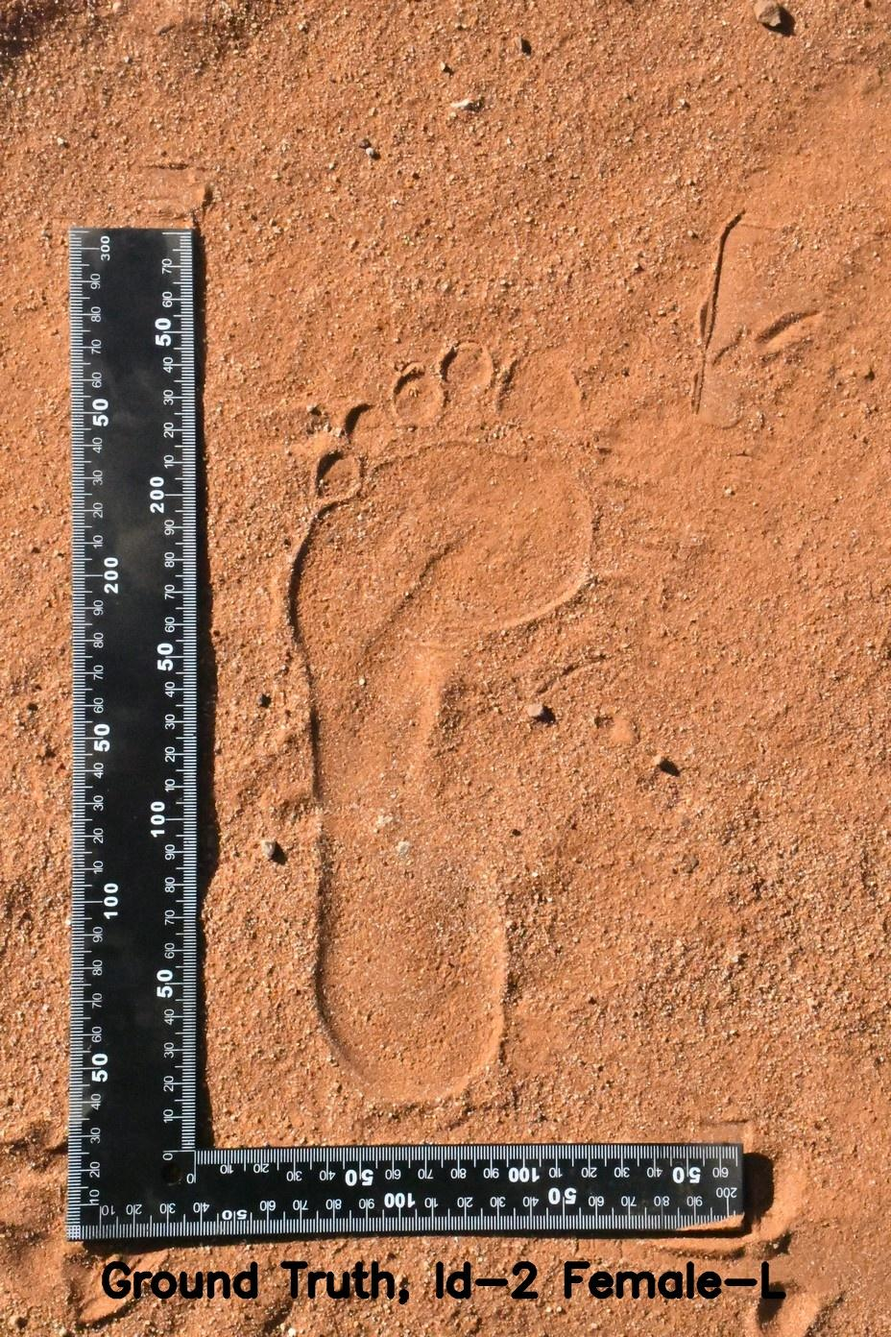human_foot_print: (228, 318, 628, 1146)
